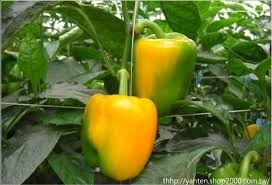fruit: (79, 93, 158, 181), (133, 31, 197, 113), (210, 162, 270, 185)
